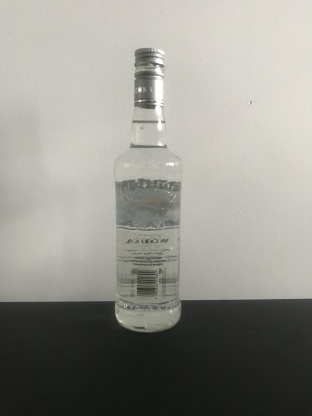nakretka: (132, 45, 165, 109)
